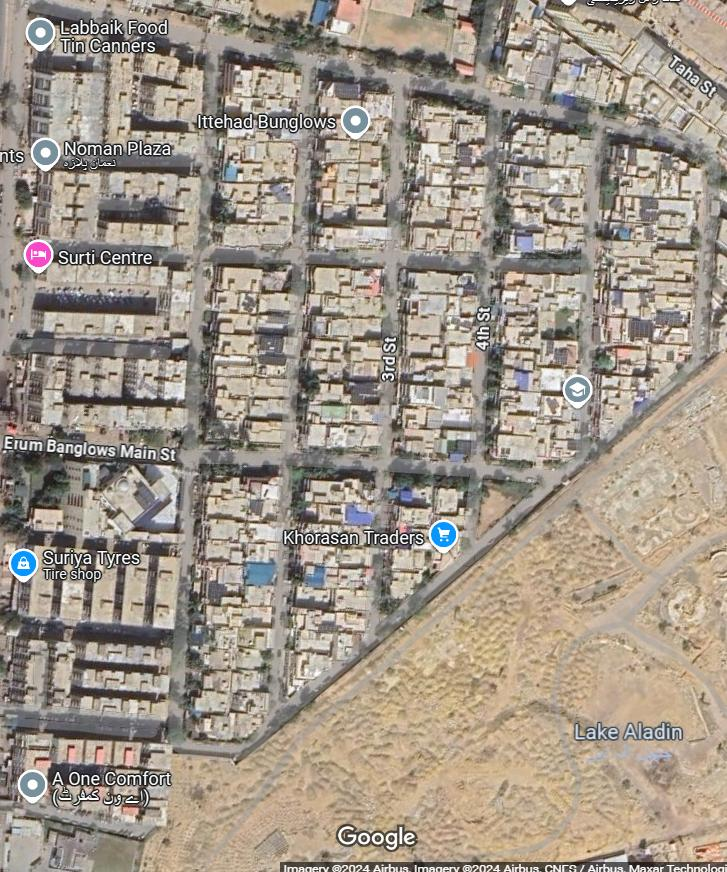Buildings: (21, 455, 184, 713), (37, 16, 203, 244), (602, 148, 701, 433), (34, 262, 189, 441), (194, 466, 283, 740), (293, 466, 370, 694), (392, 479, 527, 598), (490, 275, 578, 457), (215, 60, 299, 239), (304, 271, 378, 454), (211, 266, 287, 439), (397, 270, 469, 451), (407, 86, 482, 244), (314, 76, 387, 236), (501, 114, 584, 252)
